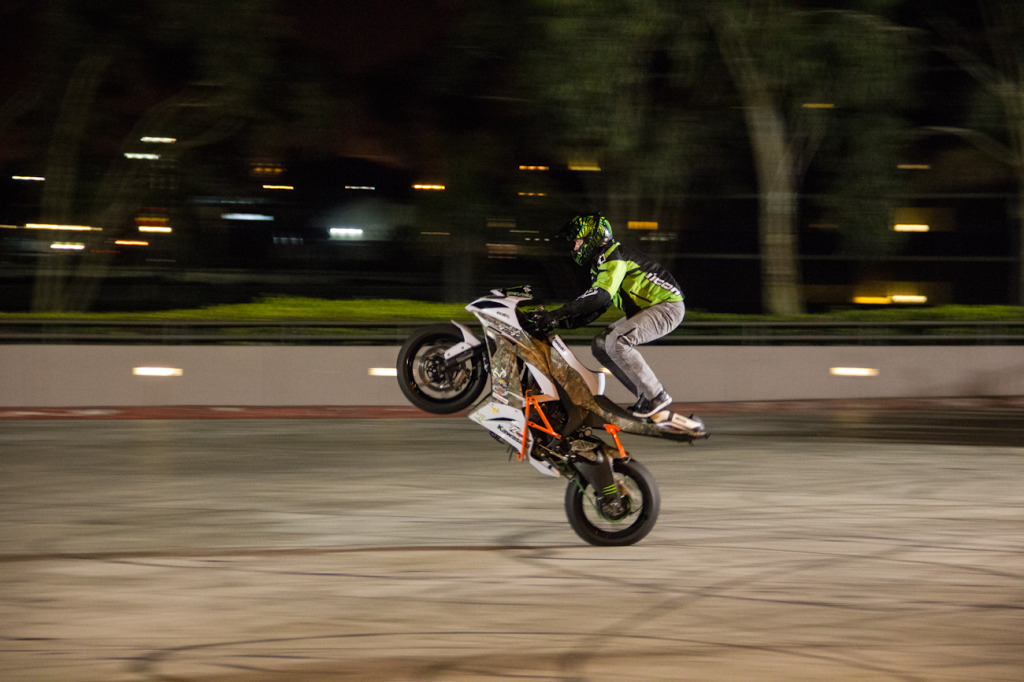helmet: (558, 204, 615, 274)
